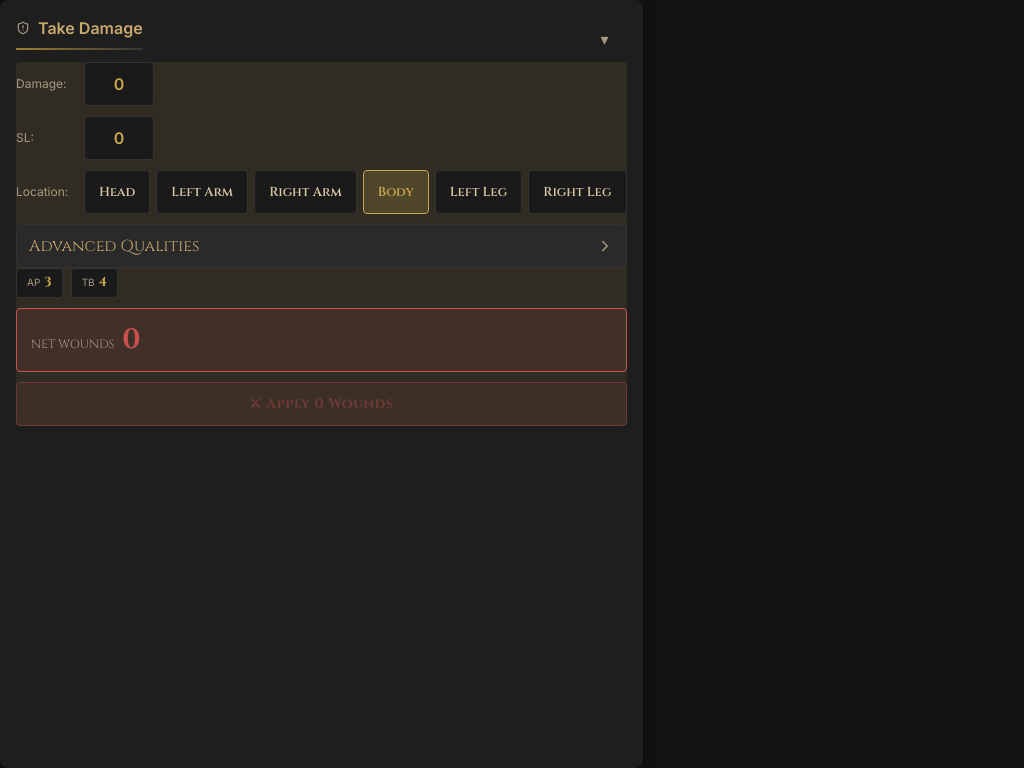
Test: TakeDamagePanel — Down alert › shows alert when applying wounds reduces wCur to 0
The image size is (1024, 768).
Replace the text in the number field named "Incoming damage" with "12" at (119, 84), box 84,62 -> 154,106
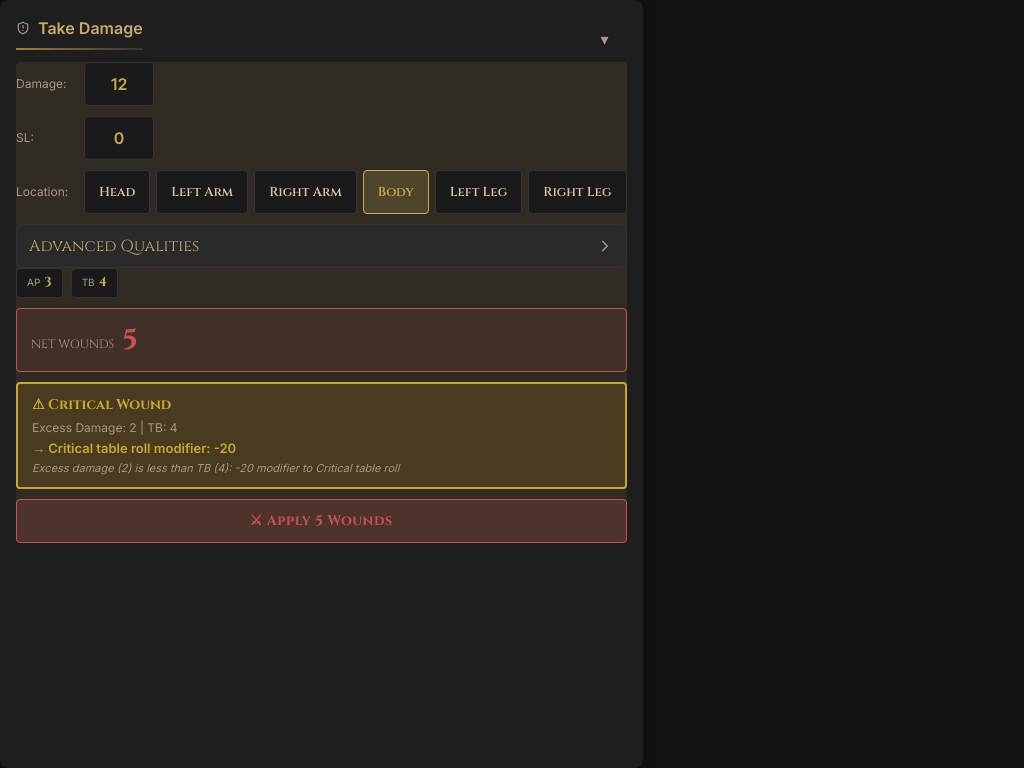
Click the button with aria-label "Apply wounds".
click(321, 520)  # box 16,498 -> 626,542
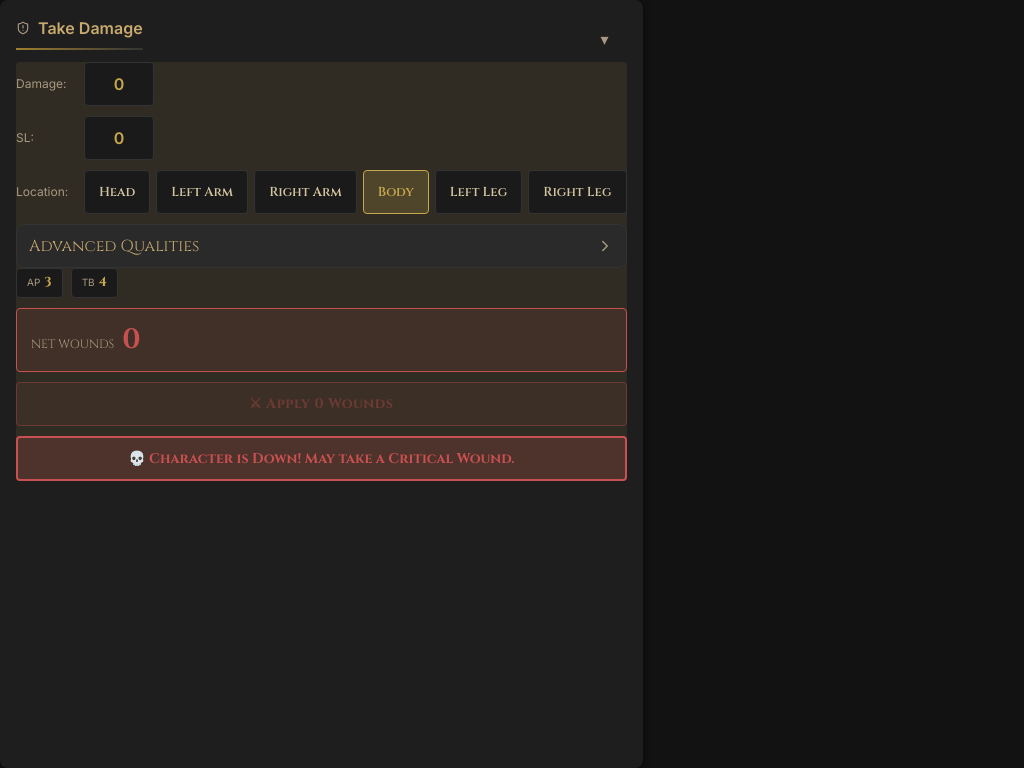
Expected: the text "💀 Character is Down! May take a Critical Wound." is shown, 16,436 -> 626,480
